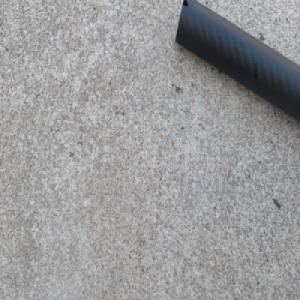LuggagePart: (173, 0, 300, 126)
